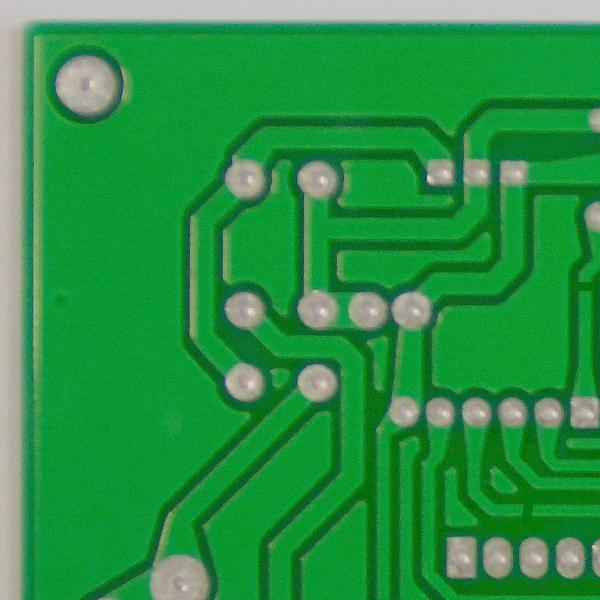open_circuit: (575, 275, 597, 300), (515, 501, 540, 522)
